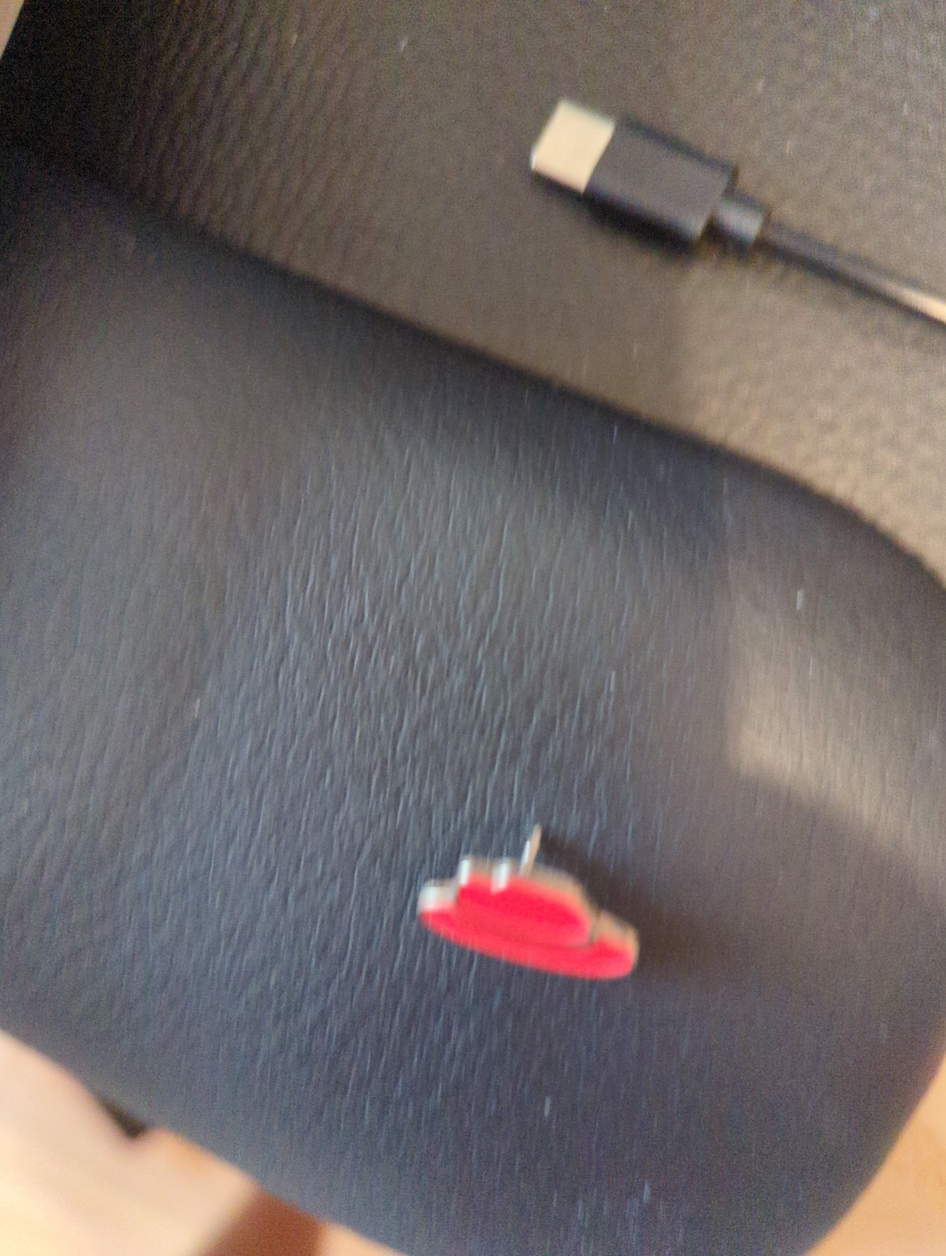Red-Hat: (359, 753, 741, 1054)
